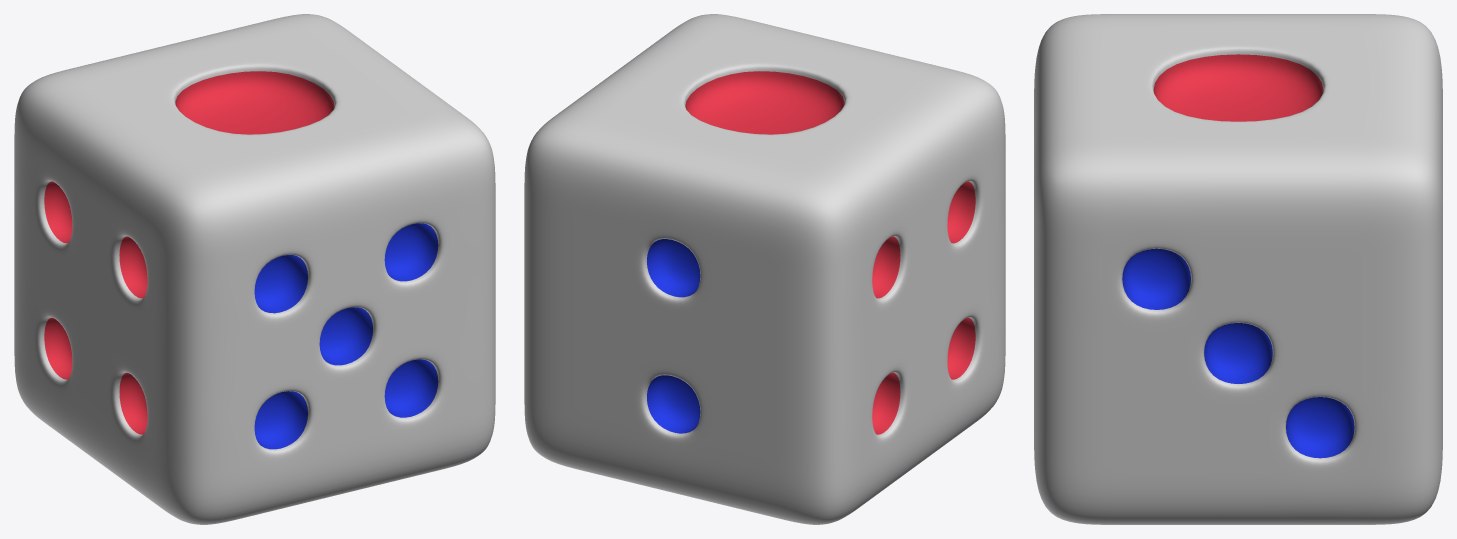
The model's file is dice.gltf.
3 renders of one model, left to right at view 1: azimuth 30°, elevation 25°; view 2: azimuth 150°, elevation 25°; view 3: azimuth 270°, elevation 25°, orthographic. The views are drawn at different scales.
Parts seen in each view (by area): view 1: dice; view 2: dice; view 3: dice.
Boxes of the visible parts, box(x1,y1,x2,y2) form: dice: box(14, 14, 495, 524); dice: box(524, 14, 1005, 524); dice: box(1034, 14, 1442, 524).
Size of the model in its own units: 2 by 2 by 2.
